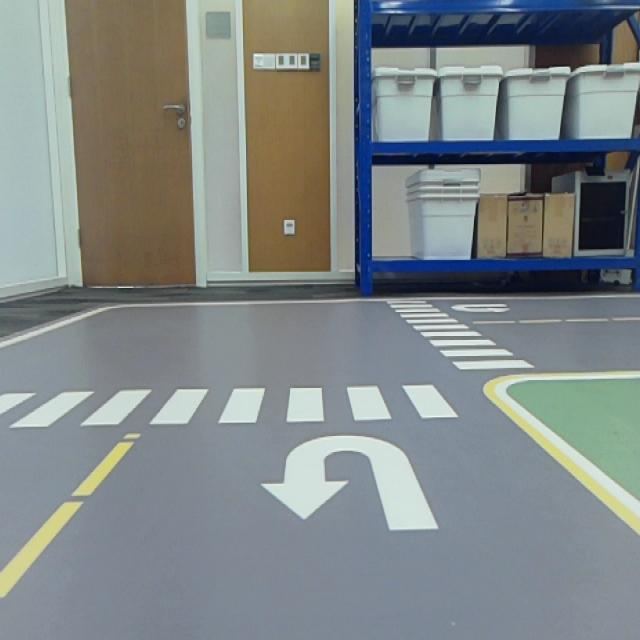left_lane: (0, 430, 145, 606)
right_lane: (485, 391, 640, 536), (0, 307, 113, 350)
